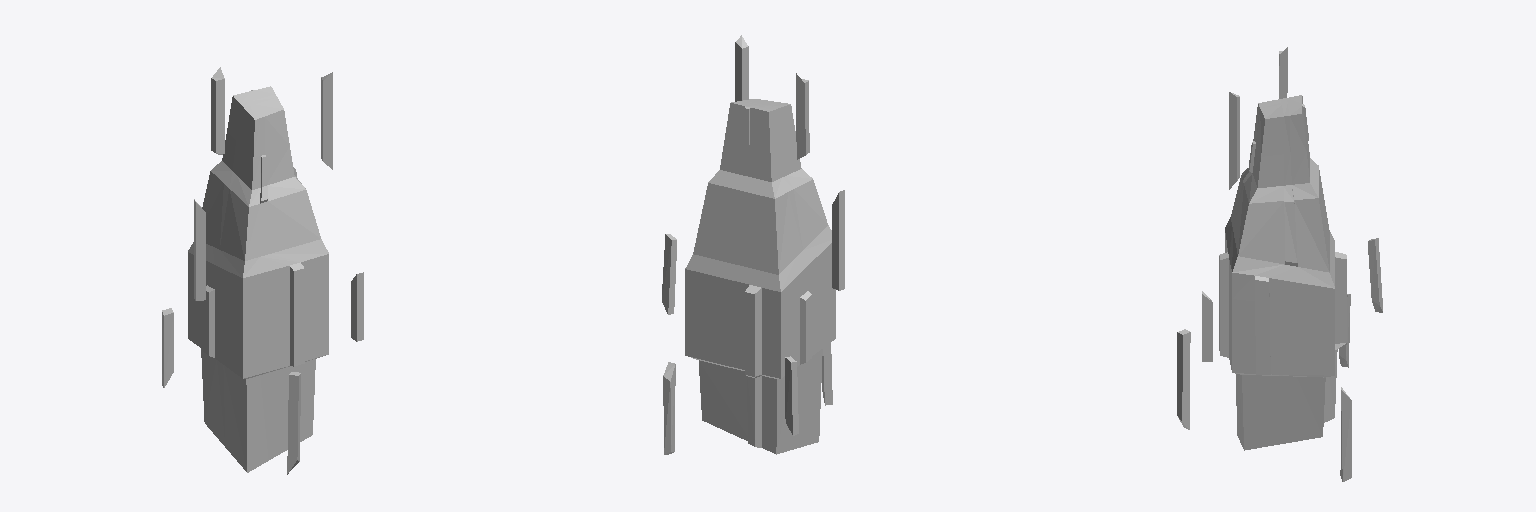
File: obelisk.obj
3 renders of one model, left to right at view 1: azimuth 30°, elevation 25°; view 2: azimuth 150°, elevation 25°; view 3: azimuth 270°, elevation 25°, orthographic.
Parts seen in each view (by area): view 1: pCube10; view 2: pCube10; view 3: pCube10.
Part boxes in pixels (x1,y1,x2,y2): pCube10: (162,67,363,474); pCube10: (662,35,844,454); pCube10: (1177,47,1382,481).
Bounding box in the file's own units: 9.14 × 24.6 × 11.87.